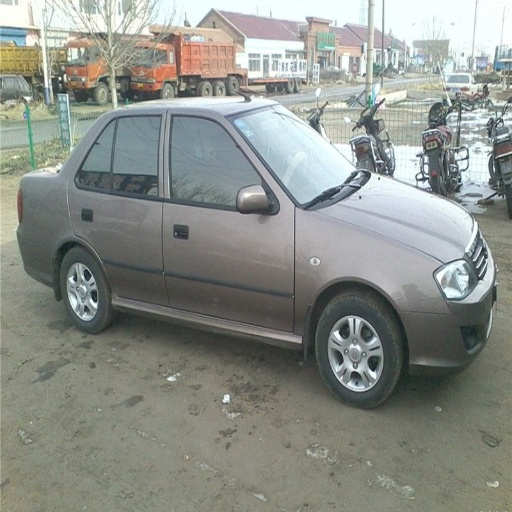front_bumper: (402, 274, 492, 368)
front_right_door: (169, 109, 294, 332)
front_right_light: (434, 258, 476, 300)
